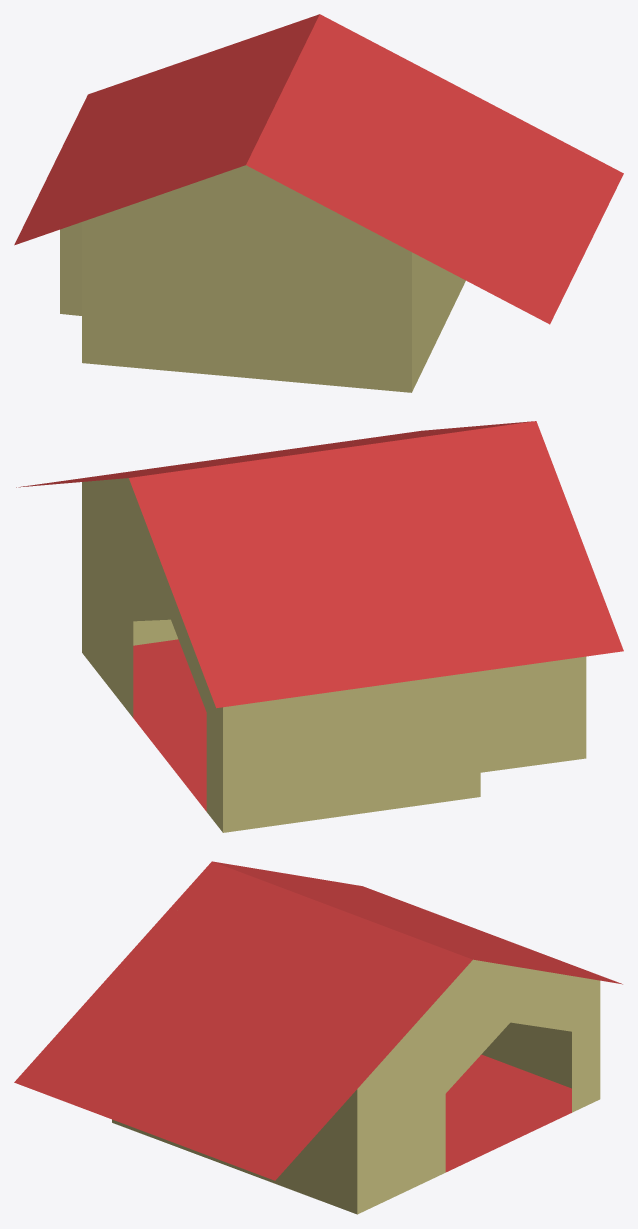
The picture shows the model from 3 angles, top to bottom: view 1: azimuth 30°, elevation 25°; view 2: azimuth 150°, elevation 25°; view 3: azimuth 270°, elevation 25°; orthographic projection. The views are drawn at different scales.
Bounding box in the file's own units: 48.67 × 47.56 × 17.91.
